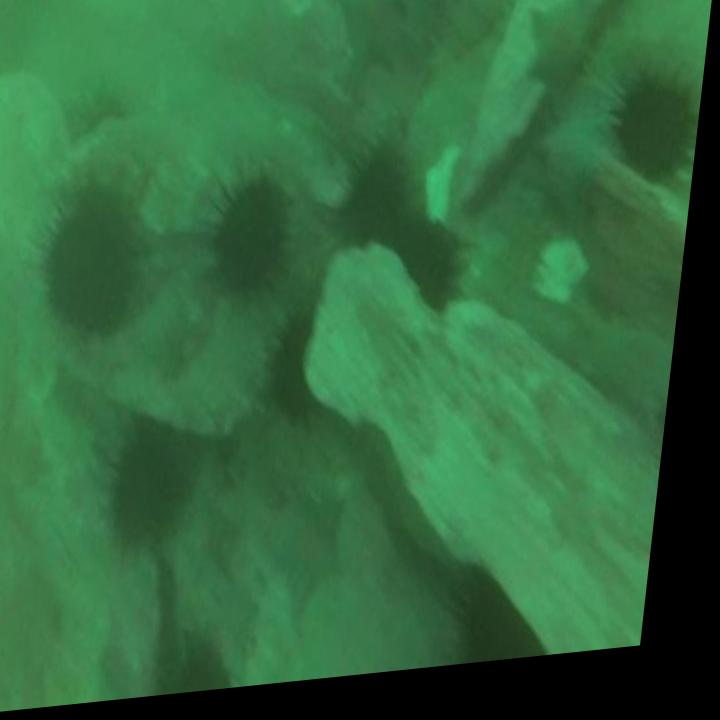echinus: (50, 184, 147, 340), (114, 437, 201, 556), (617, 91, 701, 199), (218, 183, 294, 293), (402, 218, 468, 317), (349, 152, 409, 258), (279, 319, 331, 425)
starfish: (288, 509, 360, 619), (527, 0, 596, 105), (333, 0, 410, 93)
